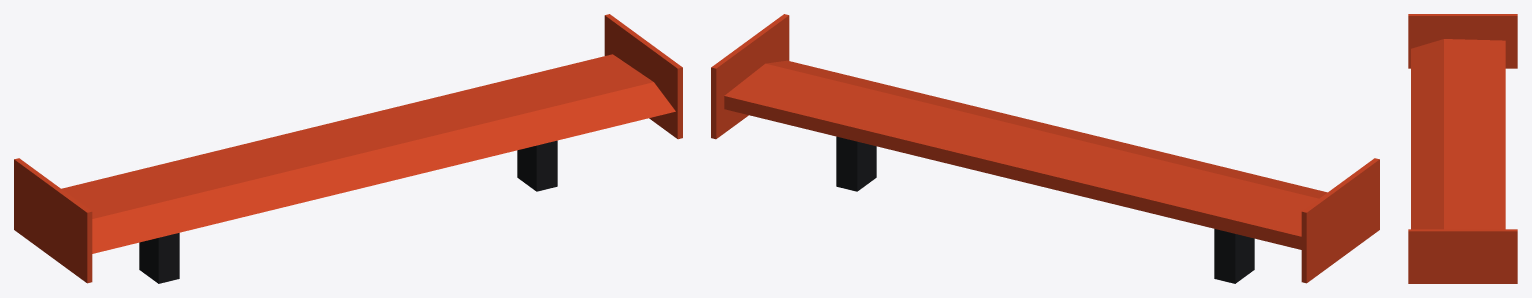
3 views of the same model, side by side, from view 1: azimuth 30°, elevation 25°; view 2: azimuth 150°, elevation 25°; view 3: azimuth 270°, elevation 25° (orthographic). The views are drawn at different scales.
Visible parts, largest first — view 1: spoiler-asa_simples; view 2: spoiler-asa_simples; view 3: spoiler-asa_simples.
Boxes of the visible parts, <box> form: spoiler-asa_simples: <box>14,14,682,283</box>; spoiler-asa_simples: <box>711,14,1379,283</box>; spoiler-asa_simples: <box>1408,14,1517,283</box>.
Bounding box in the file's own units: 1.41 × 0.26 × 0.3.
